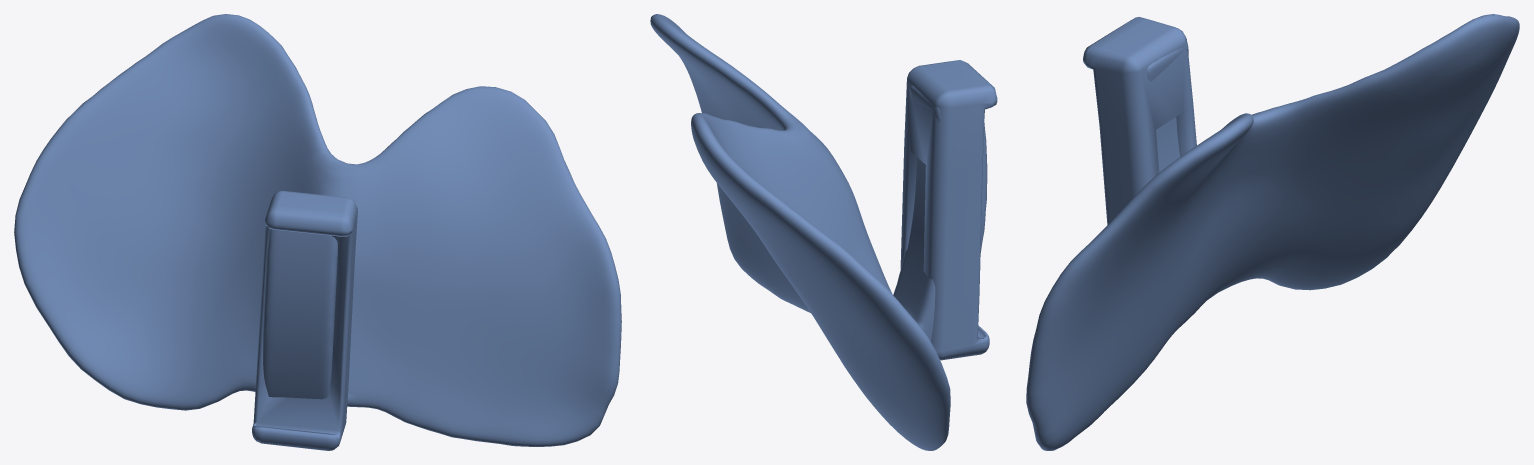
File: TL2_Spacers_BaguetteMetal.001 2.glb
3 views of the same model, side by side, from view 1: azimuth 30°, elevation 25°; view 2: azimuth 150°, elevation 25°; view 3: azimuth 270°, elevation 25° (orthographic). The views are drawn at different scales.
Parts seen in each view (by area): view 1: TL2_Spacers_BaguetteMetal.001; view 2: TL2_Spacers_BaguetteMetal.001; view 3: TL2_Spacers_BaguetteMetal.001.
Boxes of the visible parts, left/top/right/bottom form: TL2_Spacers_BaguetteMetal.001: left=14, top=14, right=621, bottom=450; TL2_Spacers_BaguetteMetal.001: left=650, top=14, right=997, bottom=450; TL2_Spacers_BaguetteMetal.001: left=1026, top=14, right=1519, bottom=450.
Size of the model in its own units: 1.04 by 0.7808 by 0.9785.
